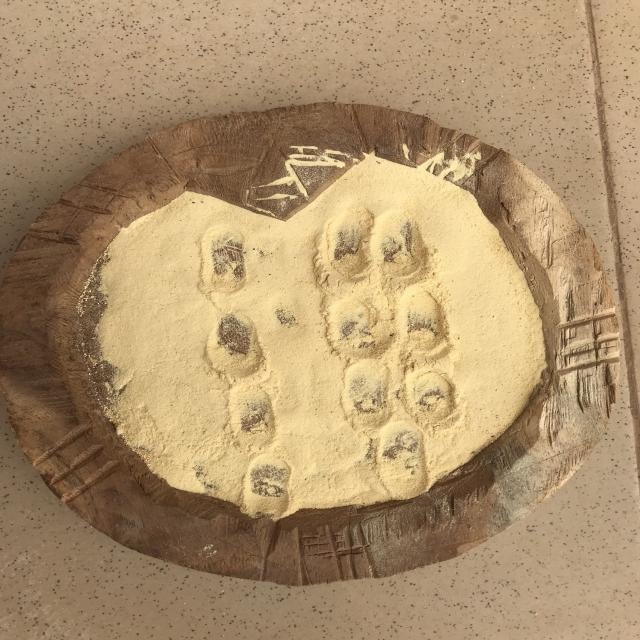double: (309, 203, 436, 286), (315, 290, 455, 360), (336, 365, 464, 427)
single: (193, 214, 258, 305), (368, 426, 434, 494), (203, 312, 265, 384), (224, 388, 288, 450), (241, 454, 303, 512)
